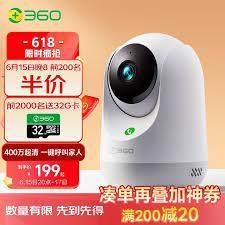maru: (102, 33, 208, 140)
